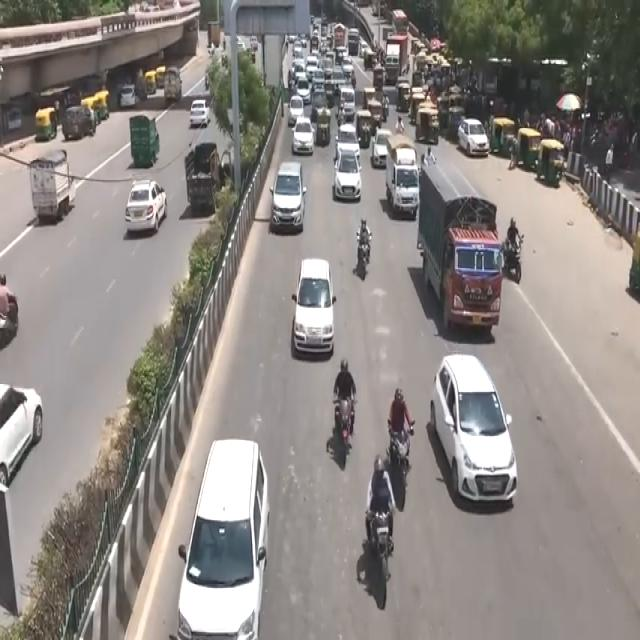MOTORCYCLE: (368, 510, 394, 615), (390, 422, 416, 514), (332, 393, 358, 472), (505, 242, 524, 288), (358, 236, 372, 285)
TRUCK: (419, 161, 502, 338)
